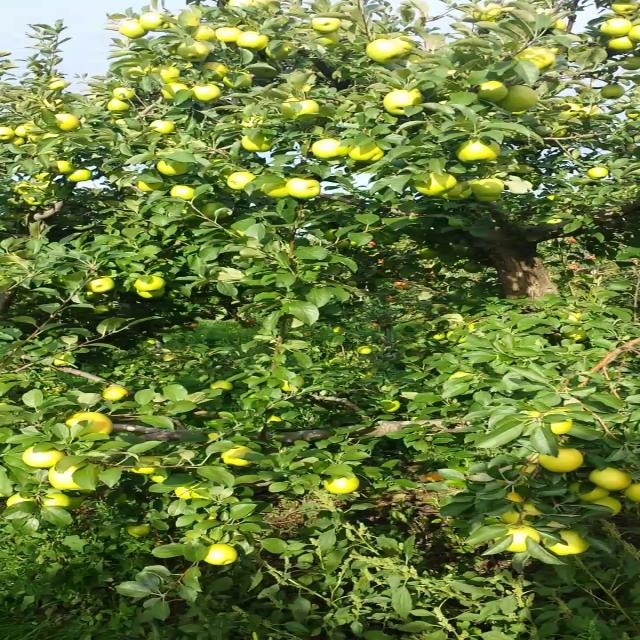apple: (65, 412, 112, 437), (455, 138, 499, 164), (550, 529, 590, 555), (500, 86, 540, 112), (384, 90, 425, 114), (413, 173, 456, 195), (500, 504, 542, 526), (590, 468, 630, 491), (517, 46, 555, 70), (540, 449, 580, 471), (23, 447, 66, 467), (505, 526, 539, 551), (364, 40, 401, 62), (49, 466, 80, 492), (205, 544, 238, 566), (312, 139, 345, 161), (324, 475, 359, 495), (175, 41, 208, 61), (476, 81, 506, 103), (286, 178, 318, 198), (436, 182, 471, 200), (347, 145, 385, 161), (222, 446, 254, 464), (284, 98, 316, 116), (238, 31, 268, 50), (468, 179, 502, 195), (588, 498, 618, 516), (160, 82, 188, 100), (473, 5, 504, 21), (53, 114, 80, 132), (158, 160, 188, 176), (579, 486, 609, 502), (599, 20, 629, 36), (140, 14, 166, 32), (118, 22, 146, 38), (192, 84, 220, 100), (227, 173, 255, 189), (150, 65, 177, 81), (41, 493, 69, 508), (134, 276, 164, 290), (242, 135, 271, 149), (216, 27, 243, 42), (102, 386, 126, 402), (204, 202, 228, 218), (88, 278, 115, 292), (389, 38, 410, 56), (191, 26, 214, 42), (65, 167, 91, 181), (261, 183, 287, 197), (314, 32, 340, 46), (265, 45, 291, 59), (609, 36, 634, 50), (312, 19, 341, 31), (50, 161, 74, 175), (26, 134, 59, 144), (7, 493, 33, 505), (106, 99, 132, 111), (137, 286, 165, 297), (171, 185, 192, 199), (148, 121, 172, 133), (612, 1, 636, 13), (551, 420, 571, 434), (127, 525, 149, 537), (602, 86, 624, 97), (15, 125, 35, 137), (189, 487, 209, 499), (113, 88, 133, 100), (562, 332, 586, 342), (626, 484, 639, 502), (205, 63, 228, 73), (381, 399, 400, 411), (52, 354, 70, 366), (552, 18, 569, 30), (589, 167, 607, 178), (130, 466, 154, 474), (138, 182, 162, 190), (562, 103, 578, 115), (174, 487, 193, 497), (449, 371, 476, 378), (22, 197, 43, 206), (474, 194, 500, 201), (151, 471, 167, 482), (211, 382, 233, 390), (49, 76, 63, 88), (622, 58, 638, 68), (282, 381, 298, 390), (11, 136, 25, 146), (566, 312, 580, 322), (33, 172, 50, 180), (1, 128, 12, 140), (630, 25, 638, 41), (546, 218, 562, 226), (552, 128, 567, 136), (358, 346, 370, 354), (268, 415, 280, 421), (433, 332, 445, 338), (626, 114, 638, 118)
